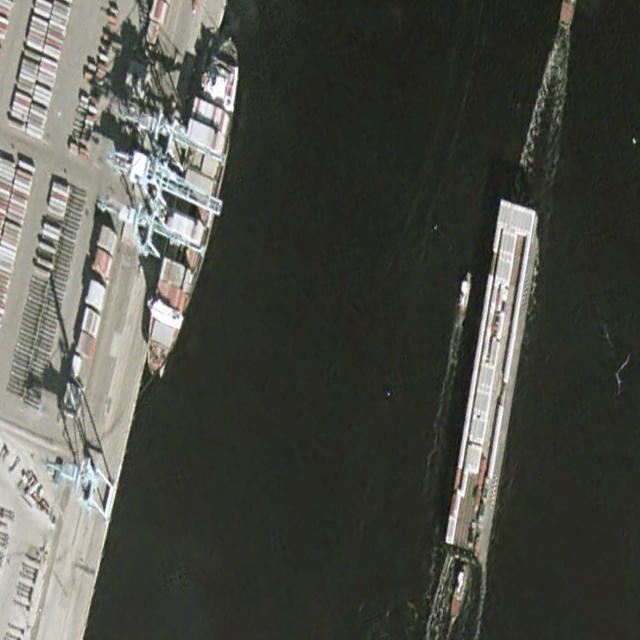Container Ship: (137, 25, 251, 387), (442, 198, 544, 567)
